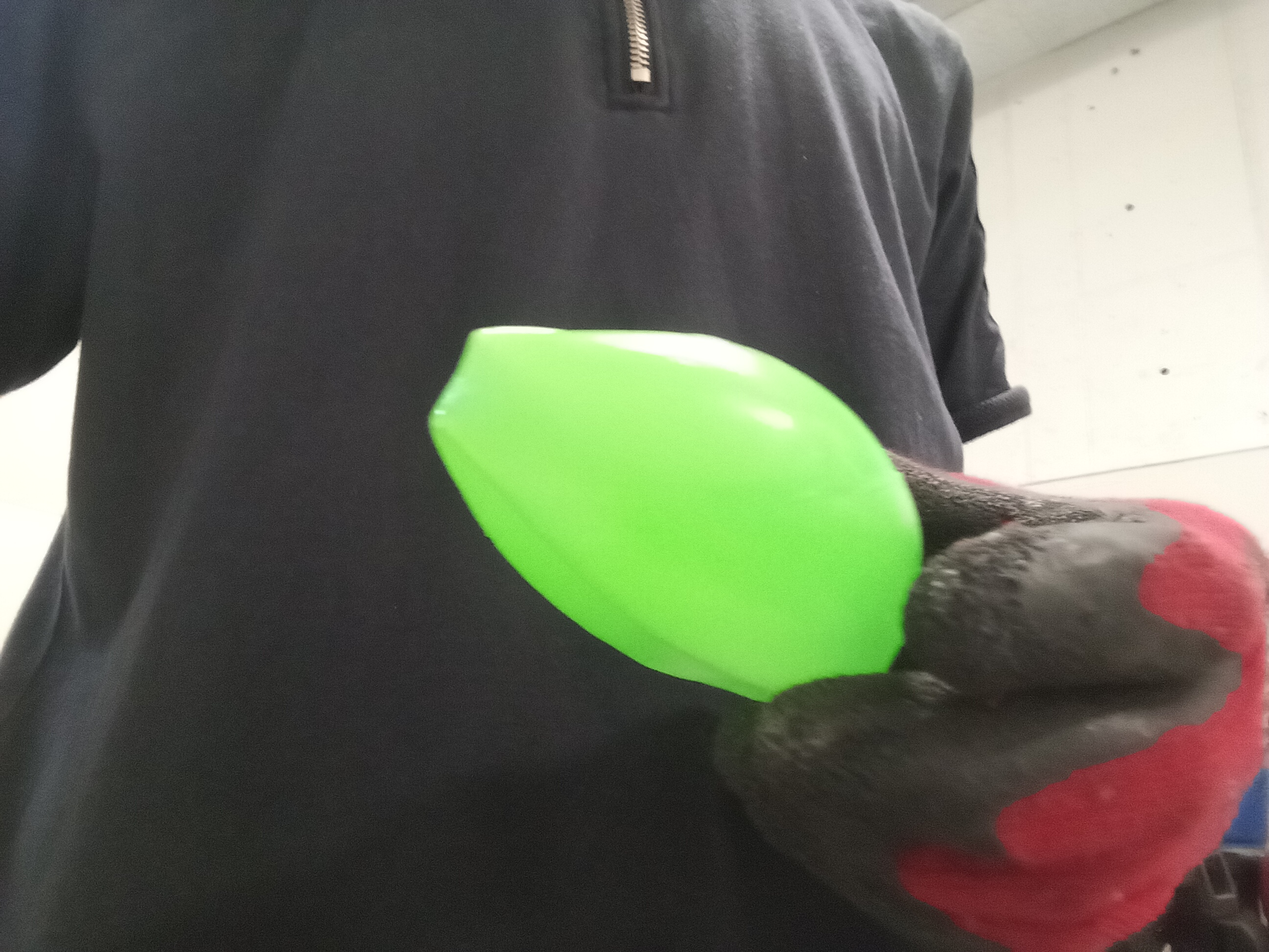Ordinario: (430, 324, 928, 701)
